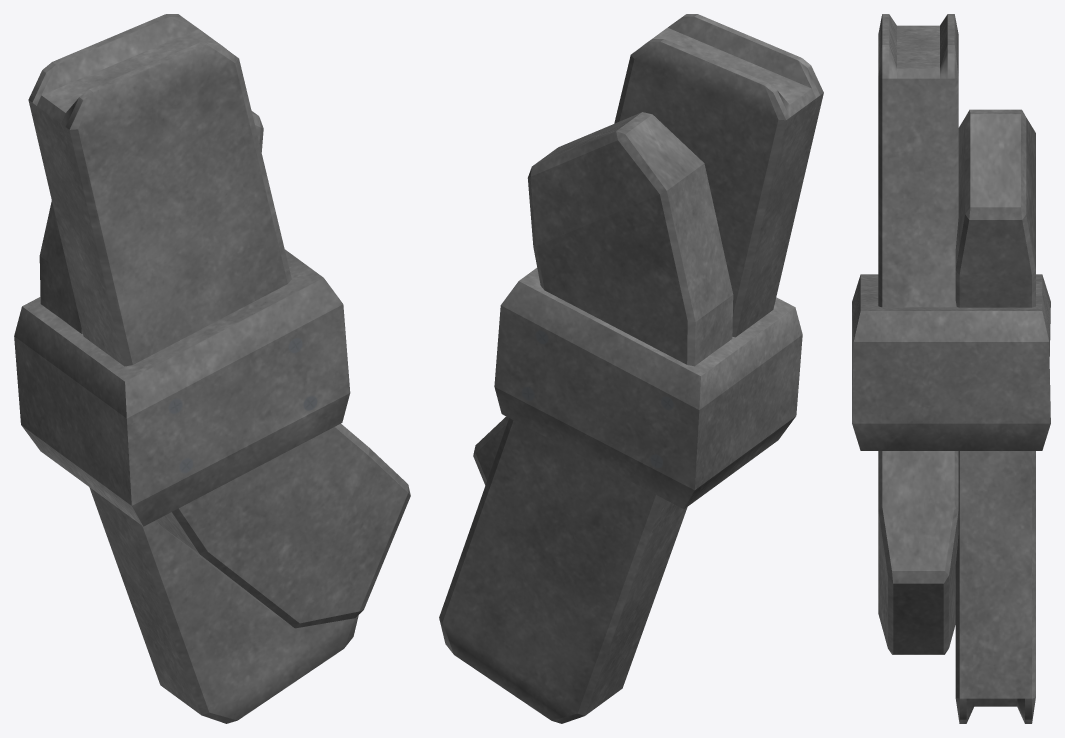
The model's file is FastMag_Ammo.fbx.
The picture shows the model from 3 angles, left to right: view 1: azimuth 30°, elevation 25°; view 2: azimuth 150°, elevation 25°; view 3: azimuth 270°, elevation 25°; orthographic projection. The views are drawn at different scales.
Parts seen in each view (by area): view 1: FastMag; view 2: FastMag; view 3: FastMag.
Boxes of the visible parts, x1,y1,x2,y2 form: FastMag: (14, 14, 410, 723); FastMag: (439, 14, 823, 723); FastMag: (852, 14, 1050, 723).
Bounding box in the file's own units: 26.79 × 53.58 × 15.05.
